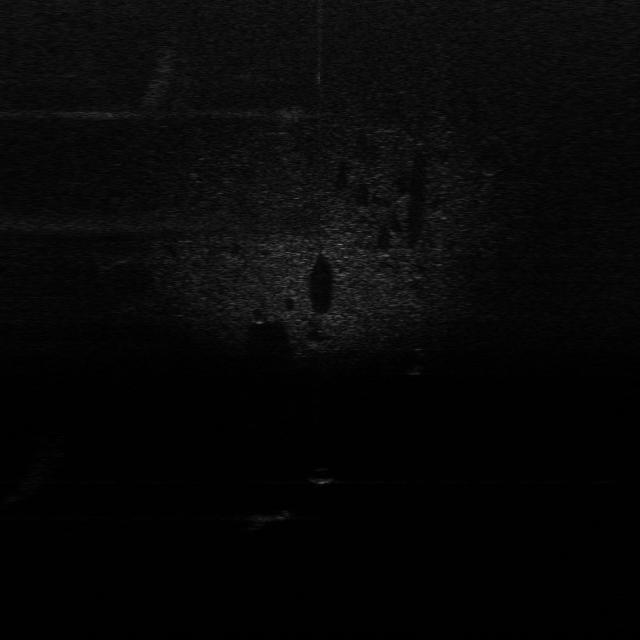ball: (308, 465, 338, 487)
square cage: (244, 506, 292, 526)
tyre: (402, 344, 428, 377)
